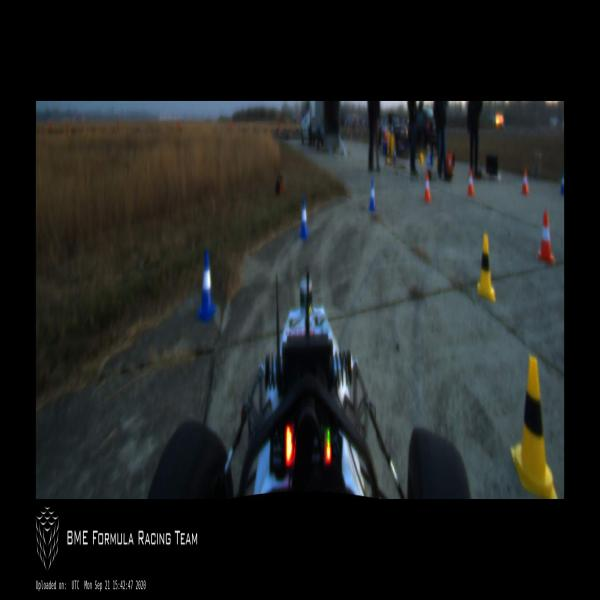blue_cone: (196, 246, 216, 322), (298, 196, 309, 241), (369, 179, 375, 212), (560, 170, 564, 196)
orange_cone: (537, 214, 554, 260), (522, 168, 530, 194), (424, 172, 430, 200), (468, 169, 474, 195)
yellow_cone: (512, 354, 558, 498), (478, 234, 496, 300), (386, 148, 390, 164)
